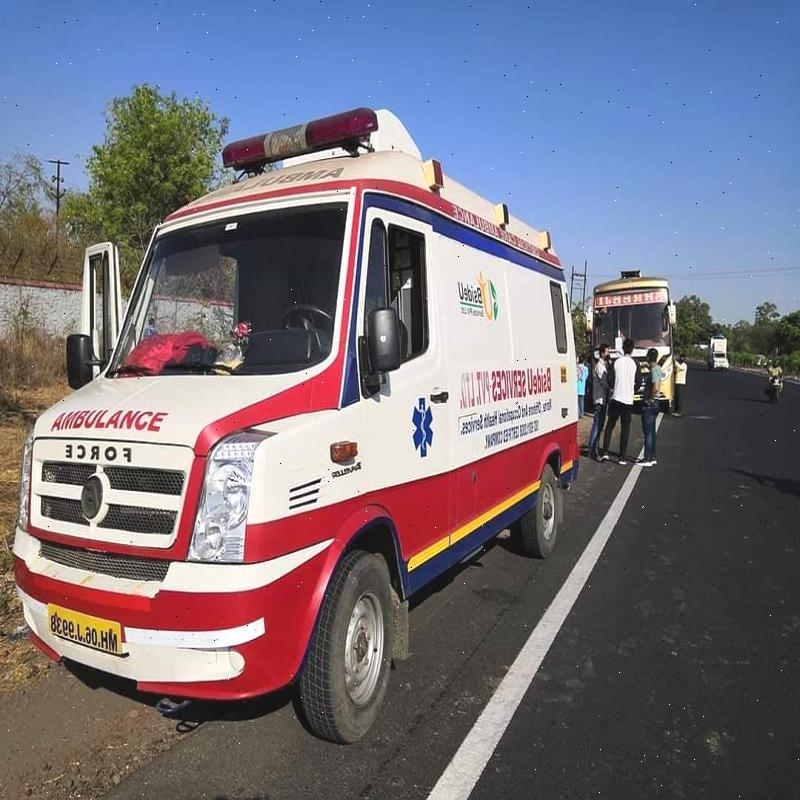ambulance: (65, 140, 585, 730)
